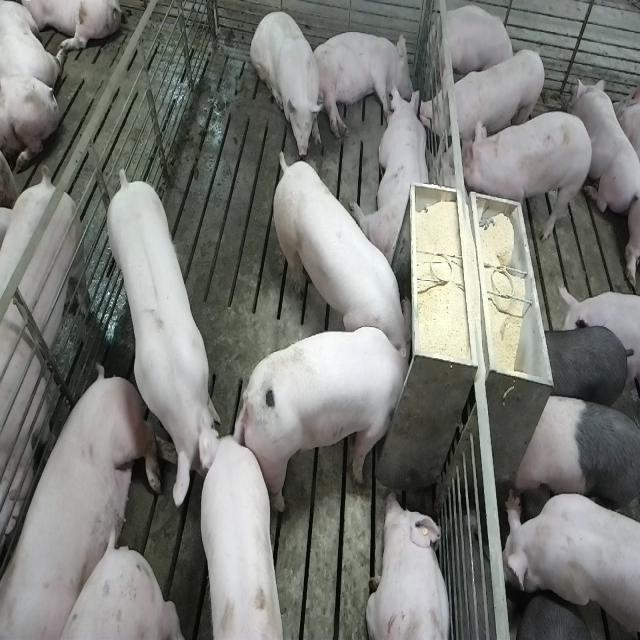Feeding: (243, 325, 420, 509), (268, 143, 410, 355)
Lateral_lying: (310, 29, 414, 140)
Sitting: (250, 7, 324, 160)
Standing: (105, 167, 222, 510), (0, 167, 92, 585), (501, 489, 638, 640), (198, 423, 288, 640), (464, 112, 596, 245), (512, 390, 638, 520), (537, 323, 634, 411)
Sternal_lying: (357, 85, 432, 268), (366, 491, 453, 640), (574, 74, 638, 220), (432, 5, 516, 86)
